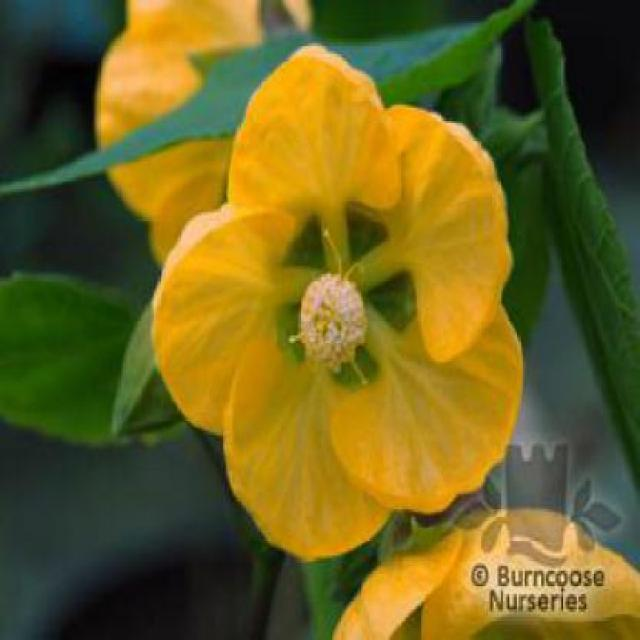Flower: (144, 49, 522, 553), (96, 3, 347, 280), (298, 272, 369, 373)
